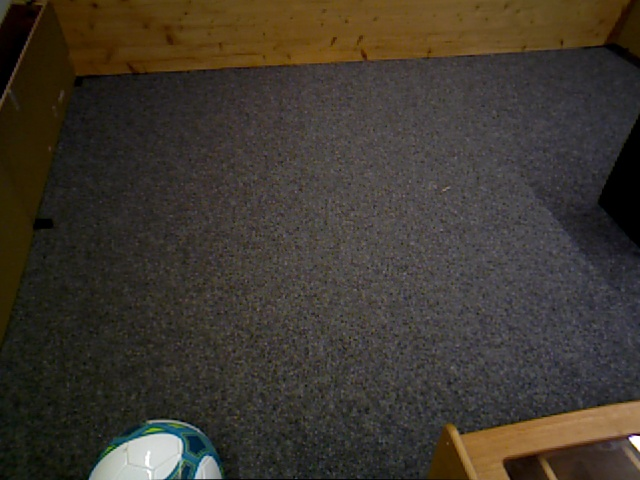kick: (87, 417, 222, 480)
push: (600, 100, 640, 245)
